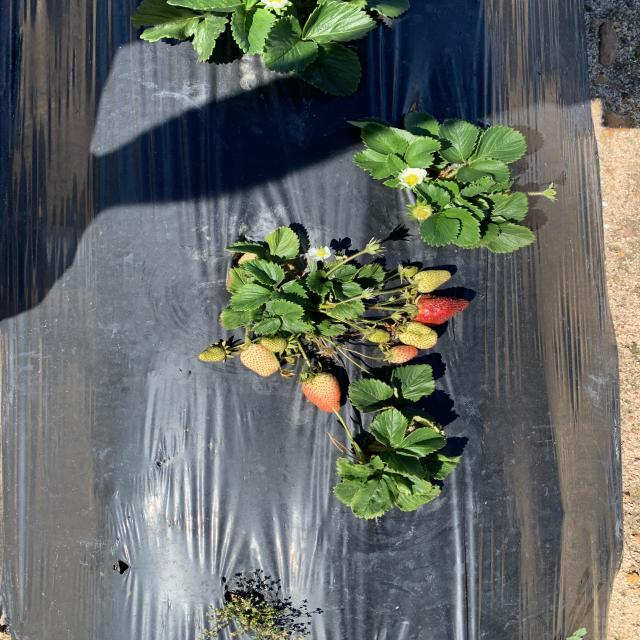unripe: (410, 294, 471, 326)
